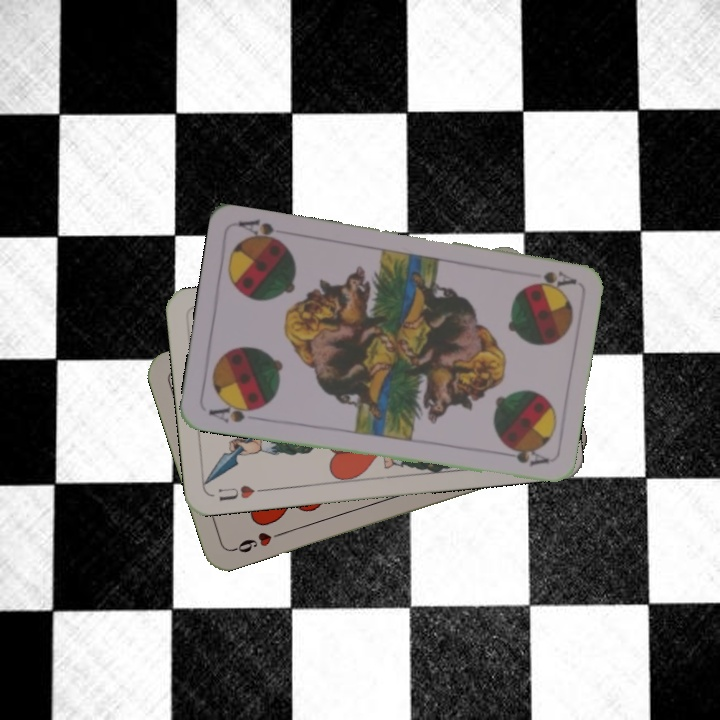H9: (228, 527, 286, 555)
HU: (214, 481, 268, 504)
SA: (204, 398, 263, 426), (526, 267, 578, 291)
